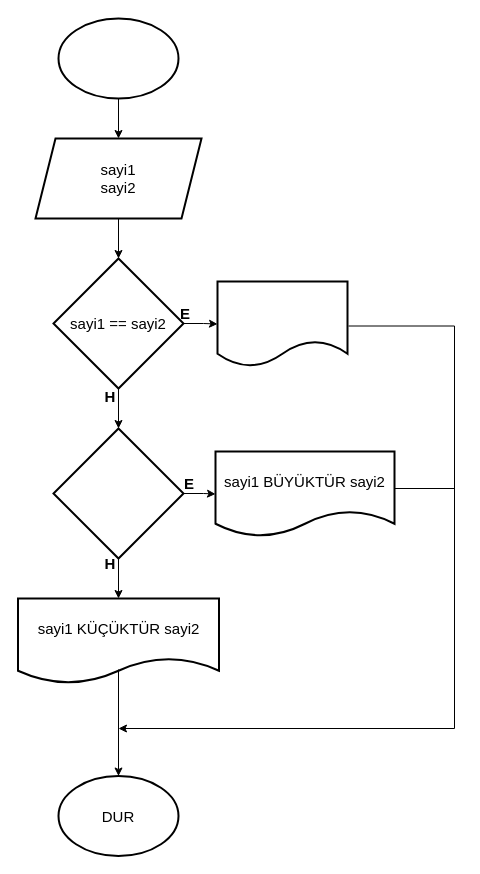
This 480x874 diagram has some shape labels left out. The shapes that lost their labels are listed below. From the top down, each one's box as (x1, y1, x2, y2) in pixels, then its label:
(57, 17, 179, 99): BAŞLA
(216, 280, 348, 367): sayi1 EŞİT sayi2
(52, 427, 184, 559): sayi1 > sayi2
